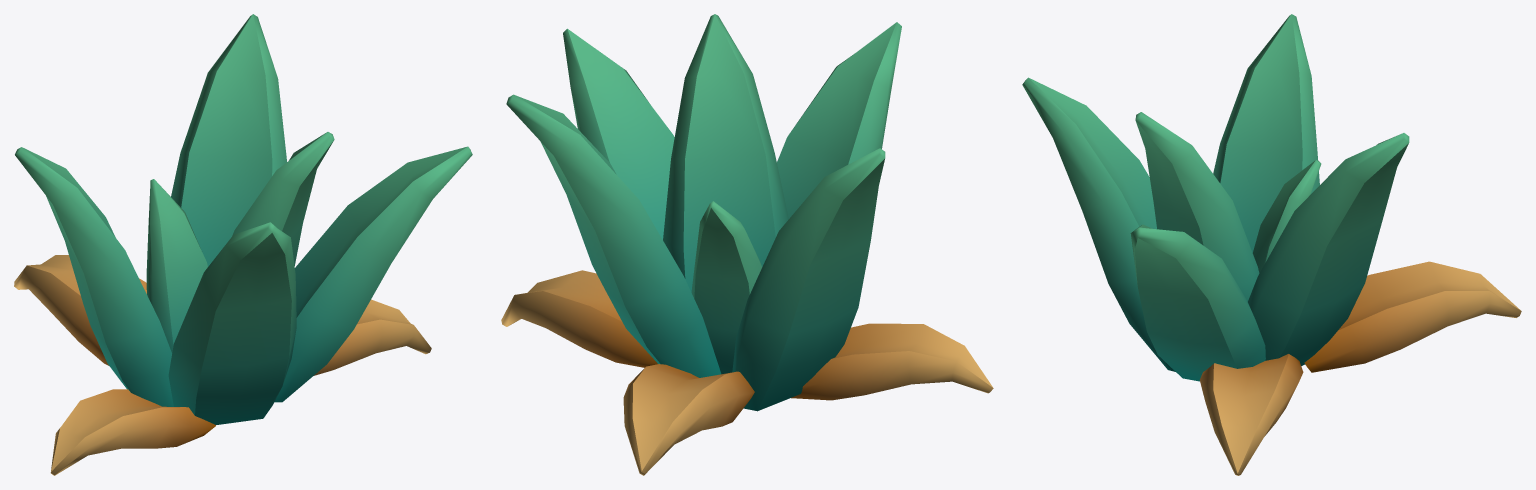
The picture shows the model from 3 angles, left to right: view 1: azimuth 30°, elevation 25°; view 2: azimuth 150°, elevation 25°; view 3: azimuth 270°, elevation 25°; orthographic projection. The views are drawn at different scales.
Visible parts, largest first — view 1: LOD 0_14127737254430187619_3e1162219392c0d418059c435572ff39; view 2: LOD 0_14127737254430187619_3e1162219392c0d418059c435572ff39; view 3: LOD 0_14127737254430187619_3e1162219392c0d418059c435572ff39.
Boxes of the visible parts, left/top/right/bottom form: LOD 0_14127737254430187619_3e1162219392c0d418059c435572ff39: left=14, top=14, right=472, bottom=475; LOD 0_14127737254430187619_3e1162219392c0d418059c435572ff39: left=501, top=14, right=993, bottom=475; LOD 0_14127737254430187619_3e1162219392c0d418059c435572ff39: left=1022, top=14, right=1521, bottom=475.
Bounding box in the file's own units: 0.9316 × 0.6423 × 0.9602.
